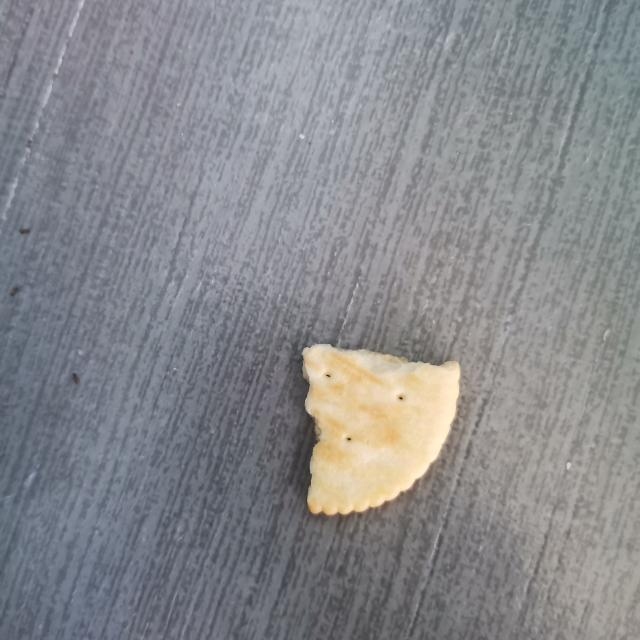Broken: (300, 341, 461, 516)
